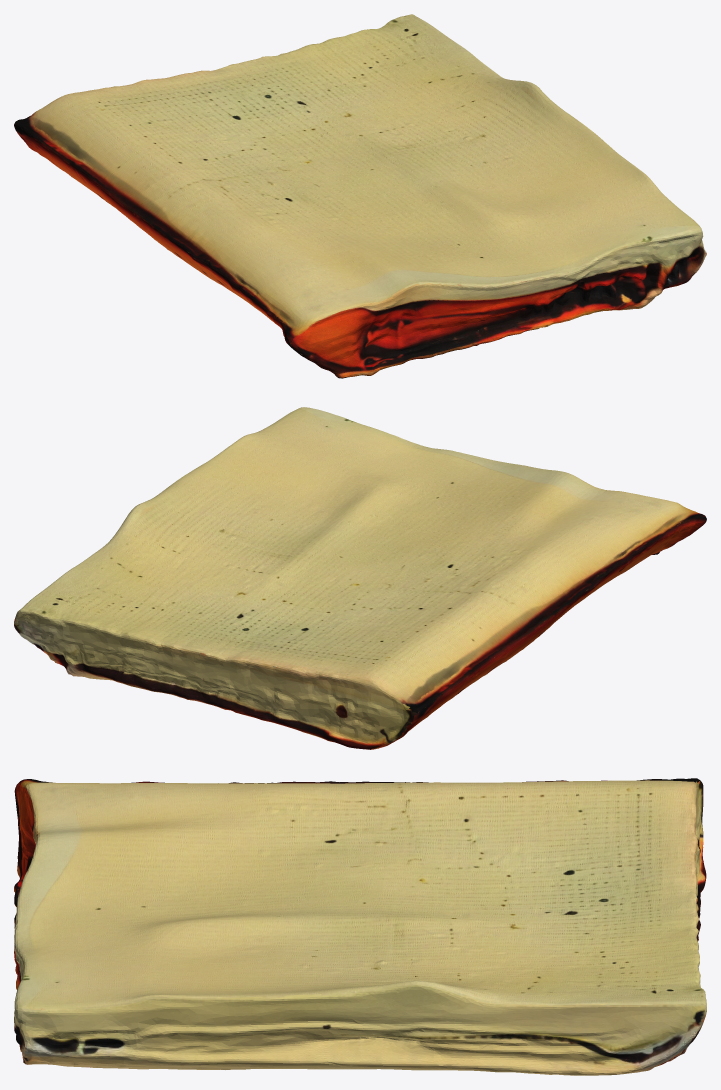
File: image_0003_segmented.glb
3 views of the same model, one above another, from view 1: azimuth 30°, elevation 25°; view 2: azimuth 150°, elevation 25°; view 3: azimuth 270°, elevation 25° (orthographic). The views are drawn at different scales.
Visible parts, largest first — view 1: tmpxgupxyoc.ply; view 2: tmpxgupxyoc.ply; view 3: tmpxgupxyoc.ply.
Boxes of the visible parts, x1=… form: tmpxgupxyoc.ply: x1=14, y1=14, x2=706, y2=378; tmpxgupxyoc.ply: x1=14, y1=407, x2=706, y2=749; tmpxgupxyoc.ply: x1=14, y1=778, x2=706, y2=1075.
Size of the model in its own units: 1.69 by 0.3679 by 1.99.
1 material, 1 textured.
